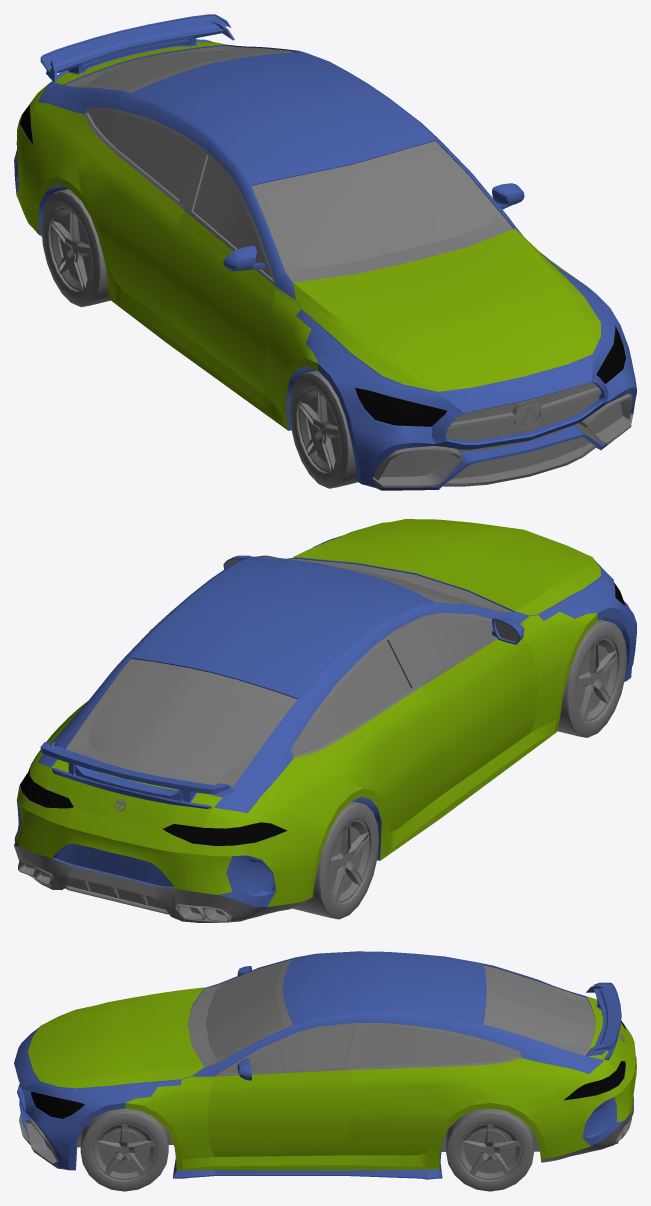
File: AmgModif.fbx
The picture shows the model from 3 angles, top to bottom: view 1: azimuth 30°, elevation 25°; view 2: azimuth 150°, elevation 25°; view 3: azimuth 270°, elevation 25°; orthographic projection. The views are drawn at different scales.
Parts seen in each view (by area): view 1: Amg:Amgbod, Amg:Amg_Side, Amg:Amg_Front, Amg:arkateker2, Amg:onteker2, Amg:Amg_Spoiler2, Amg:Amg_Spoiler3, Amg:Amg_Back; view 2: Amg:Amgbod, Amg:Amg_Side, Amg:Amg_Front, Amg:Amg_Back, Amg:arkateker2, Amg:onteker2, Amg:Amg_Spoiler2, Amg:Amg_Spoiler3, Amg:Amg_Spoiler1; view 3: Amg:Amgbod, Amg:Amg_Side, Amg:Amg_Front, Amg:onteker1, Amg:arkateker1, Amg:Amg_Back, Amg:Amg_Skirt1, Amg:Amg_Spoiler2, Amg:Amg_Skirt2, Amg:Amg_Spoiler3.
Part boxes in pixels (x1=…): Amg:Amgbod: x1=14, y1=44, x2=636, y2=490; Amg:Amg_Side: x1=16, y1=102, x2=595, y2=430; Amg:Amg_Front: x1=293, y1=228, x2=600, y2=391; Amg:arkateker2: x1=41, y1=189, x2=110, y2=307; Amg:onteker2: x1=289, y1=370, x2=358, y2=488; Amg:Amg_Spoiler2: x1=40, y1=14, x2=231, y2=71; Amg:Amg_Spoiler3: x1=46, y1=20, x2=234, y2=83; Amg:Amg_Back: x1=16, y1=42, x2=225, y2=152; Amg:Amgbod: x1=14, y1=535, x2=636, y2=922; Amg:Amg_Side: x1=16, y1=611, x2=597, y2=907; Amg:Amg_Front: x1=293, y1=519, x2=600, y2=615; Amg:Amg_Back: x1=16, y1=759, x2=255, y2=894; Amg:arkateker2: x1=292, y1=801, x2=378, y2=919; Amg:onteker2: x1=557, y1=619, x2=626, y2=737; Amg:Amg_Spoiler2: x1=40, y1=742, x2=230, y2=801; Amg:Amg_Spoiler3: x1=51, y1=742, x2=234, y2=802; Amg:Amg_Spoiler1: x1=51, y1=768, x2=211, y2=808; Amg:Amgbod: x1=14, y1=951, x2=633, y2=1170; Amg:Amg_Side: x1=125, y1=1058, x2=603, y2=1170; Amg:Amg_Front: x1=28, y1=987, x2=203, y2=1088; Amg:onteker1: x1=80, y1=1108, x2=168, y2=1191; Amg:arkateker1: x1=446, y1=1108, x2=534, y2=1191; Amg:Amg_Back: x1=587, y1=997, x2=636, y2=1122; Amg:Amg_Skirt1: x1=173, y1=1158, x2=442, y2=1178; Amg:Amg_Spoiler2: x1=593, y1=982, x2=621, y2=1050; Amg:Amg_Skirt2: x1=177, y1=1169, x2=439, y2=1179; Amg:Amg_Spoiler3: x1=586, y1=985, x2=609, y2=1056.
Bounding box in the file's own units: 175 × 126 × 432.
